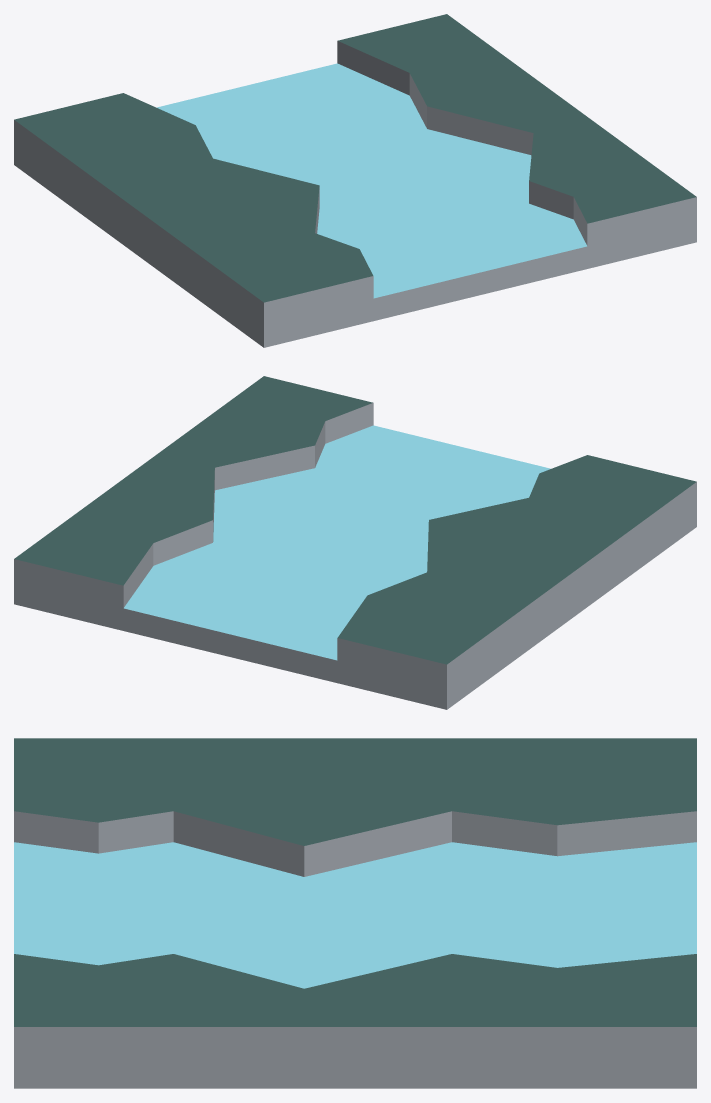
Rendered from Plate_River_01.fbx.
3 views of the same model, one above another, from view 1: azimuth 30°, elevation 25°; view 2: azimuth 150°, elevation 25°; view 3: azimuth 270°, elevation 25° (orthographic). The views are drawn at different scales.
Visible parts, largest first — view 1: Mesh1_Plate_River Model; view 2: Mesh1_Plate_River Model; view 3: Mesh1_Plate_River Model.
Boxes of the visible parts, x1,y1,x2,y2 form: Mesh1_Plate_River Model: (14, 14, 696, 347); Mesh1_Plate_River Model: (14, 376, 696, 709); Mesh1_Plate_River Model: (14, 738, 696, 1088).
Bounding box in the file's own units: 3 × 0.3 × 3.
